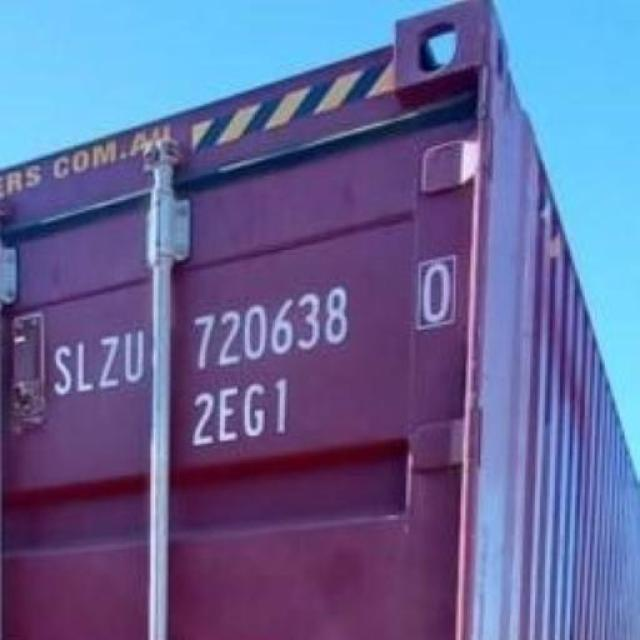ISO: (187, 382, 293, 444)
container_number: (49, 255, 463, 404)
